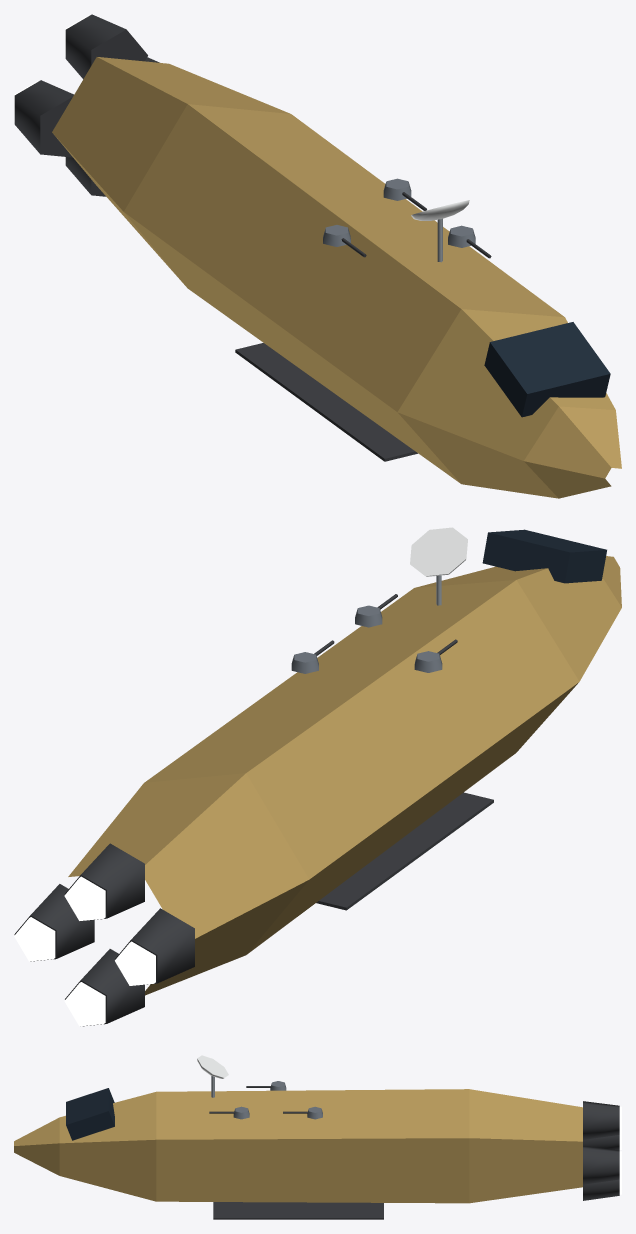
File: space_ship_transport_mk7_lod1.glb
3 views of the same model, one above another, from view 1: azimuth 30°, elevation 25°; view 2: azimuth 150°, elevation 25°; view 3: azimuth 270°, elevation 25° (orthographic). The views are drawn at different scales.
Visible parts, largest first — view 1: body, hangar_door, engine_2, engine_1, antenna_0; view 2: body, hangar_door, engine_1, engine_2, engine_0, engine_3, antenna_0; view 3: body, hangar_door, engine_1, engine_0, engine_3, antenna_0, engine_2, turret_0, turret_2.
Part boxes in pixels (left/top/right/bottom): body: left=52, top=57, right=621, bottom=498; hangar_door: left=235, top=343, right=417, bottom=461; engine_2: left=14, top=80, right=73, bottom=157; engine_1: left=65, top=14, right=147, bottom=79; antenna_0: left=411, top=200, right=469, bottom=262; body: left=68, top=529, right=621, bottom=995; hangar_door: left=316, top=792, right=493, bottom=910; engine_1: left=64, top=843, right=144, bottom=920; engine_2: left=115, top=908, right=194, bottom=985; engine_0: left=14, top=884, right=94, bottom=961; engine_3: left=64, top=949, right=144, bottom=1026; antenna_0: left=410, top=527, right=467, bottom=605; body: left=14, top=1088, right=582, bottom=1203; hangar_door: left=213, top=1202, right=383, bottom=1219; engine_1: left=583, top=1101, right=621, bottom=1139; engine_0: left=583, top=1146, right=621, bottom=1184; engine_3: left=583, top=1178, right=621, bottom=1200; antenna_0: left=197, top=1055, right=228, bottom=1097; engine_2: left=583, top=1133, right=621, bottom=1150; turret_0: left=209, top=1106, right=249, bottom=1119; turret_2: left=283, top=1106, right=322, bottom=1119.
Bounding box in the file's own units: 6.29 × 8.75 × 33.08.
